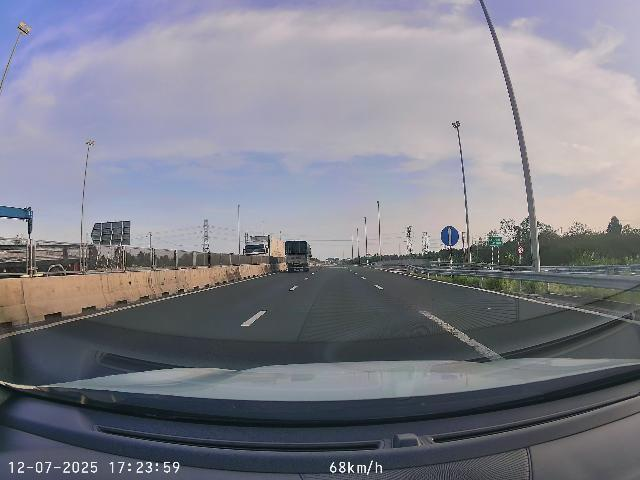301a-cac-xe-chi-duoc-di-thang: (440, 226, 460, 246)
